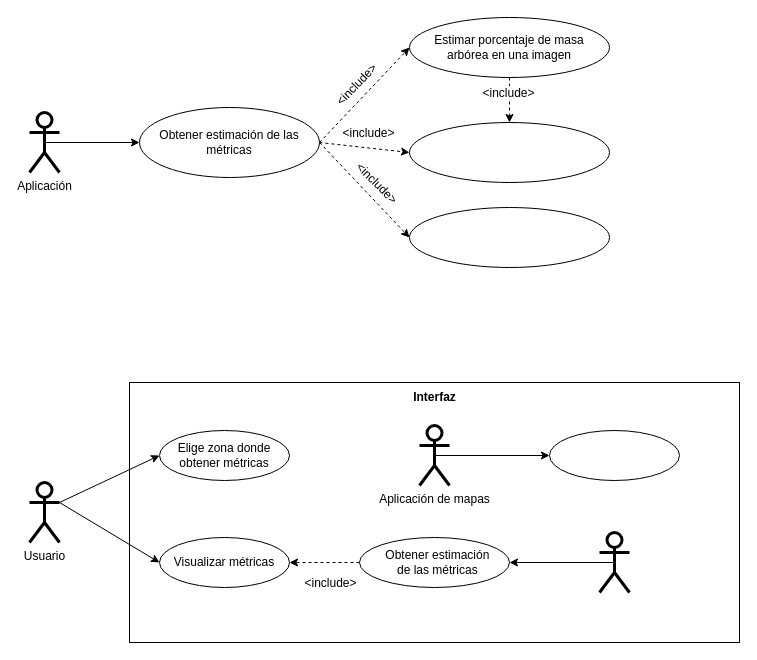
Some shapes in this 757 by 660 pixel diagram are drawn without their labels. Each missing label, with the centre of its shape:
"Aplicación de detección" belongs at point 614,562.
"Estimar el número de árboles en una imagen" belongs at point 509,237.
"Estimar metros cuadrados de masa arbórea en una imagen" belongs at point 509,152.
"Obtener imagen de la zona seleccionada" belongs at point 614,455.
